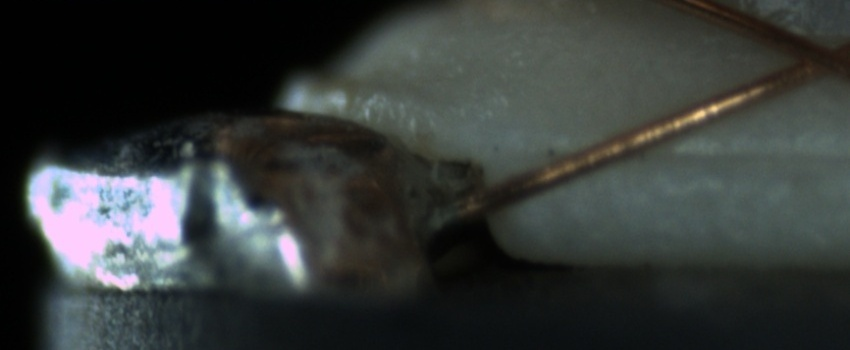CL: (766, 24, 848, 88)
DL: (613, 119, 847, 190)
